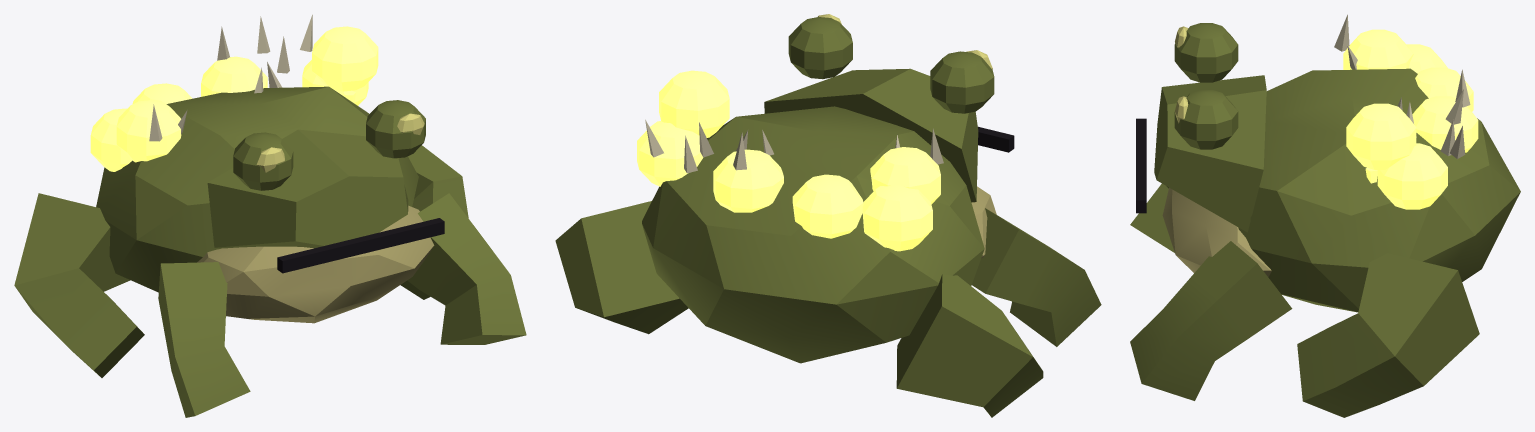
The model's file is SW_BloatToad.fbx.
3 views of the same model, side by side, from view 1: azimuth 30°, elevation 25°; view 2: azimuth 150°, elevation 25°; view 3: azimuth 270°, elevation 25° (orthographic). The views are drawn at different scales.
Parts seen in each view (by area): view 1: SW_BloatToad; view 2: SW_BloatToad; view 3: SW_BloatToad.
Boxes of the visible parts, x1,y1,x2,y2 form: SW_BloatToad: (14,14,526,417); SW_BloatToad: (555,14,1101,417); SW_BloatToad: (1130,14,1520,417).
Bounding box in the file's own units: 3.04 × 1.76 × 2.22.
